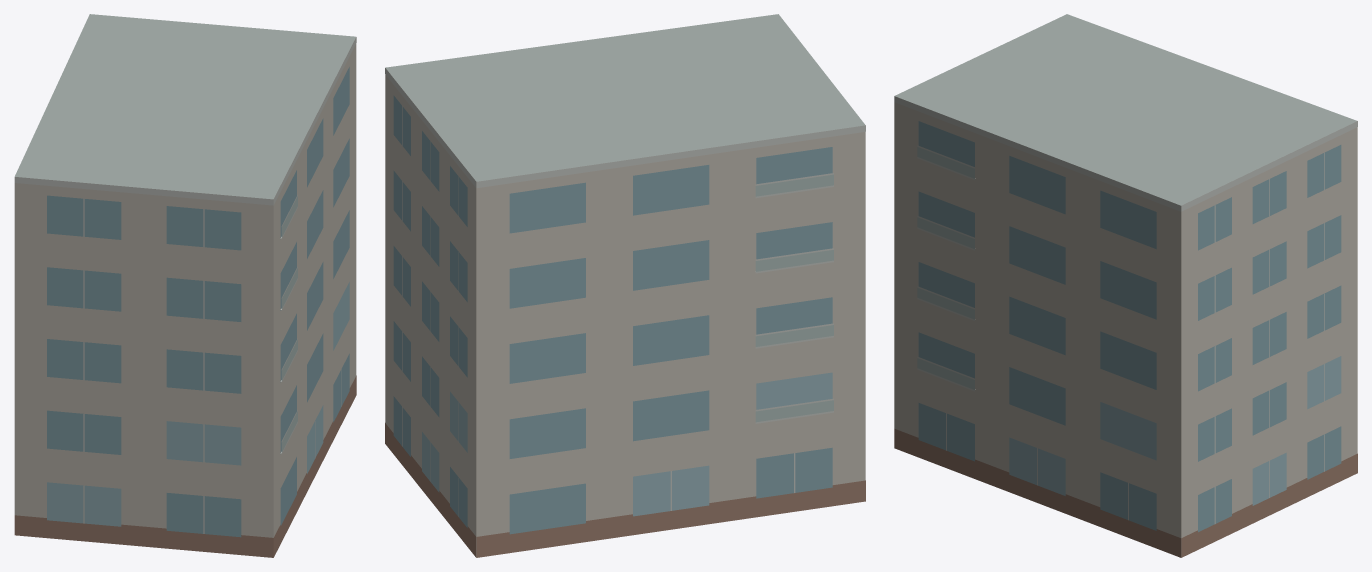
File: survey-upis-33037163.glb
3 renders of one model, left to right at view 1: azimuth 30°, elevation 25°; view 2: azimuth 150°, elevation 25°; view 3: azimuth 270°, elevation 25°, orthographic. The views are drawn at different scales.
Parts seen in each view (by area): view 1: survey-upis-33037163.tmp; view 2: survey-upis-33037163.tmp; view 3: survey-upis-33037163.tmp.
Part boxes in pixels (bbox=[...]): survey-upis-33037163.tmp: bbox=[14, 14, 356, 557]; survey-upis-33037163.tmp: bbox=[385, 14, 865, 557]; survey-upis-33037163.tmp: bbox=[894, 14, 1357, 557].
Size of the model in its own units: 16.59 by 14.2 by 16.95.
